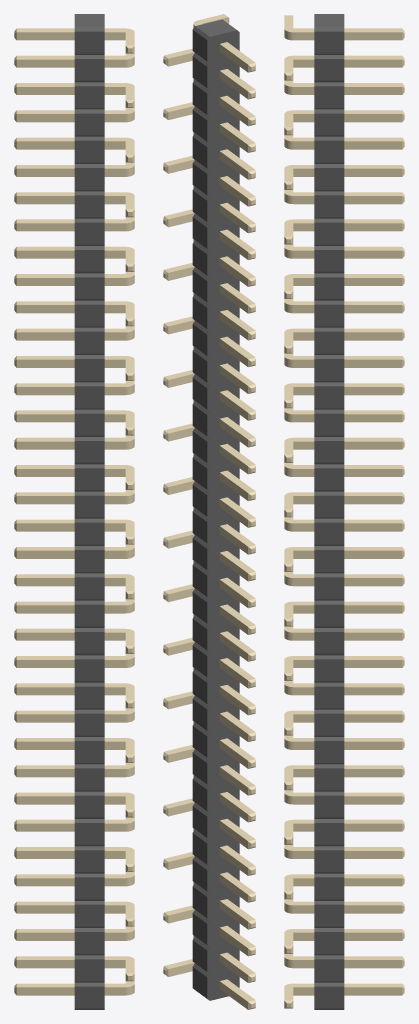
File: PinHeader_1x36_P1.00mm_Vertical_SMD_Pin1Right.glb
3 views of the same model, side by side, from view 1: azimuth 90°, elevation 25°; view 2: azimuth 210°, elevation 25°; view 3: azimuth 270°, elevation 25° (orthographic).
Parts seen in each view (by area): view 1: Shape_IndexedFaceSet.007, Shape_IndexedFaceSet.031, Shape_IndexedFaceSet.043, Shape_IndexedFaceSet.049, Shape_IndexedFaceSet.073, Shape_IndexedFaceSet.085, Shape_IndexedFaceSet.091, Shape_IndexedFaceSet.115, Shape_IndexedFaceSet.127, Shape_IndexedFaceSet.157, Shape_IndexedFaceSet.169, Shape_IndexedFaceSet.193 (+61 smaller); view 2: Shape_IndexedFaceSet.004, Shape_IndexedFaceSet.001, Shape_IndexedFaceSet.028, Shape_IndexedFaceSet.130, Shape_IndexedFaceSet.136, Shape_IndexedFaceSet.160, Shape_IndexedFaceSet.166, Shape_IndexedFaceSet.172, Shape_IndexedFaceSet.178, Shape_IndexedFaceSet.202, Shape_IndexedFaceSet.002, Shape_IndexedFaceSet.010 (+62 smaller); view 3: Shape_IndexedFaceSet.002, Shape_IndexedFaceSet.028, Shape_IndexedFaceSet.040, Shape_IndexedFaceSet.046, Shape_IndexedFaceSet.070, Shape_IndexedFaceSet.082, Shape_IndexedFaceSet.088, Shape_IndexedFaceSet.112, Shape_IndexedFaceSet.124, Shape_IndexedFaceSet.154, Shape_IndexedFaceSet.166, Shape_IndexedFaceSet.190 (+61 smaller).
Boxes of the visible parts, bbox=[...] form: Shape_IndexedFaceSet.007: bbox=[74, 31, 104, 53]; Shape_IndexedFaceSet.031: bbox=[74, 140, 104, 162]; Shape_IndexedFaceSet.043: bbox=[74, 195, 104, 217]; Shape_IndexedFaceSet.049: bbox=[74, 222, 104, 244]; Shape_IndexedFaceSet.073: bbox=[74, 331, 104, 353]; Shape_IndexedFaceSet.085: bbox=[74, 386, 104, 408]; Shape_IndexedFaceSet.091: bbox=[74, 413, 104, 435]; Shape_IndexedFaceSet.115: bbox=[74, 522, 104, 544]; Shape_IndexedFaceSet.127: bbox=[74, 577, 104, 599]; Shape_IndexedFaceSet.157: bbox=[74, 713, 104, 735]; Shape_IndexedFaceSet.169: bbox=[74, 768, 104, 790]; Shape_IndexedFaceSet.193: bbox=[74, 877, 104, 899]; Shape_IndexedFaceSet.004: bbox=[207, 30, 239, 1000]; Shape_IndexedFaceSet.001: bbox=[195, 19, 236, 36]; Shape_IndexedFaceSet.028: bbox=[192, 137, 207, 168]; Shape_IndexedFaceSet.130: bbox=[192, 592, 207, 623]; Shape_IndexedFaceSet.136: bbox=[192, 619, 207, 650]; Shape_IndexedFaceSet.160: bbox=[192, 726, 207, 757]; Shape_IndexedFaceSet.166: bbox=[192, 753, 207, 784]; Shape_IndexedFaceSet.172: bbox=[192, 779, 207, 810]; Shape_IndexedFaceSet.178: bbox=[192, 806, 207, 837]; Shape_IndexedFaceSet.202: bbox=[192, 913, 207, 944]; Shape_IndexedFaceSet.002: bbox=[192, 30, 207, 61]; Shape_IndexedFaceSet.010: bbox=[192, 56, 207, 87]; Shape_IndexedFaceSet.002: bbox=[314, 31, 344, 53]; Shape_IndexedFaceSet.028: bbox=[314, 140, 344, 162]; Shape_IndexedFaceSet.040: bbox=[314, 195, 344, 217]; Shape_IndexedFaceSet.046: bbox=[314, 222, 344, 244]; Shape_IndexedFaceSet.070: bbox=[314, 331, 344, 353]; Shape_IndexedFaceSet.082: bbox=[314, 386, 344, 408]; Shape_IndexedFaceSet.088: bbox=[314, 413, 344, 435]; Shape_IndexedFaceSet.112: bbox=[314, 522, 344, 544]; Shape_IndexedFaceSet.124: bbox=[314, 577, 344, 599]; Shape_IndexedFaceSet.154: bbox=[314, 713, 344, 735]; Shape_IndexedFaceSet.166: bbox=[314, 768, 344, 790]; Shape_IndexedFaceSet.190: bbox=[314, 877, 344, 899].
Size of the model in its own units: 0.984 by 14.17 by 1.58.
